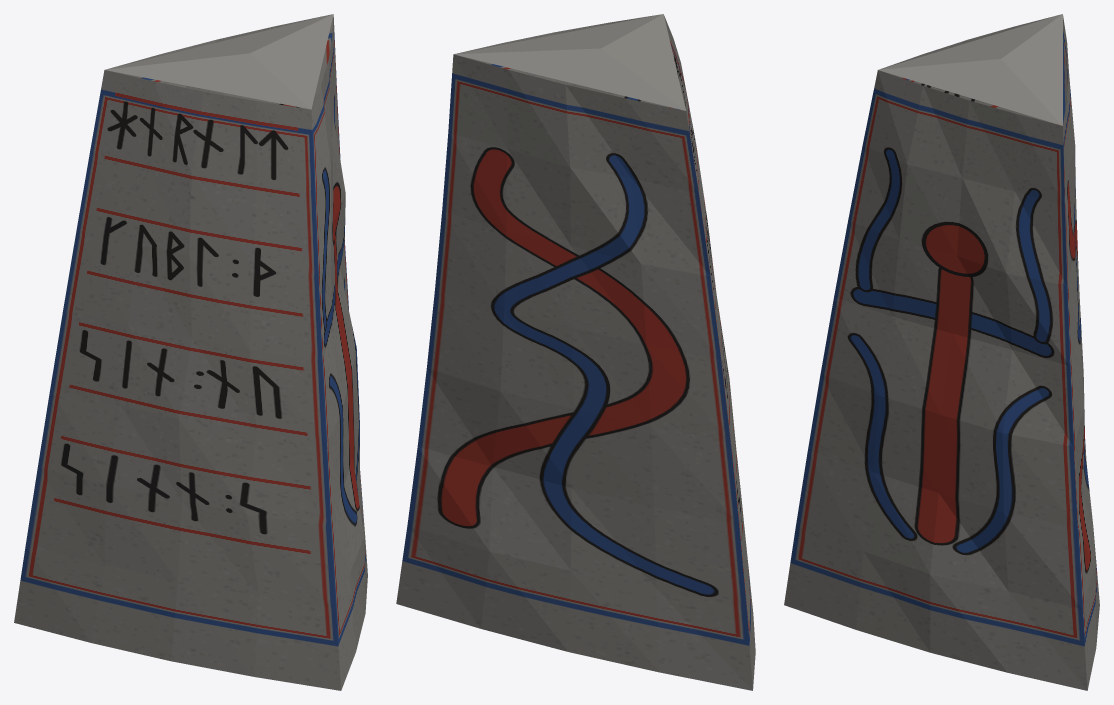
File: d1_runesten.glb
The picture shows the model from 3 angles, left to right: view 1: azimuth 30°, elevation 25°; view 2: azimuth 150°, elevation 25°; view 3: azimuth 270°, elevation 25°; orthographic projection.
Visible parts, largest first — view 1: D1_haralds_runesten; view 2: D1_haralds_runesten; view 3: D1_haralds_runesten.
Boxes of the visible parts, x1,y1,x2,y2 form: D1_haralds_runesten: [14, 14, 367, 690]; D1_haralds_runesten: [396, 14, 755, 690]; D1_haralds_runesten: [784, 14, 1099, 690].
Size of the model in its own units: 1.65 by 2.48 by 1.28.
1 material, 1 textured.
